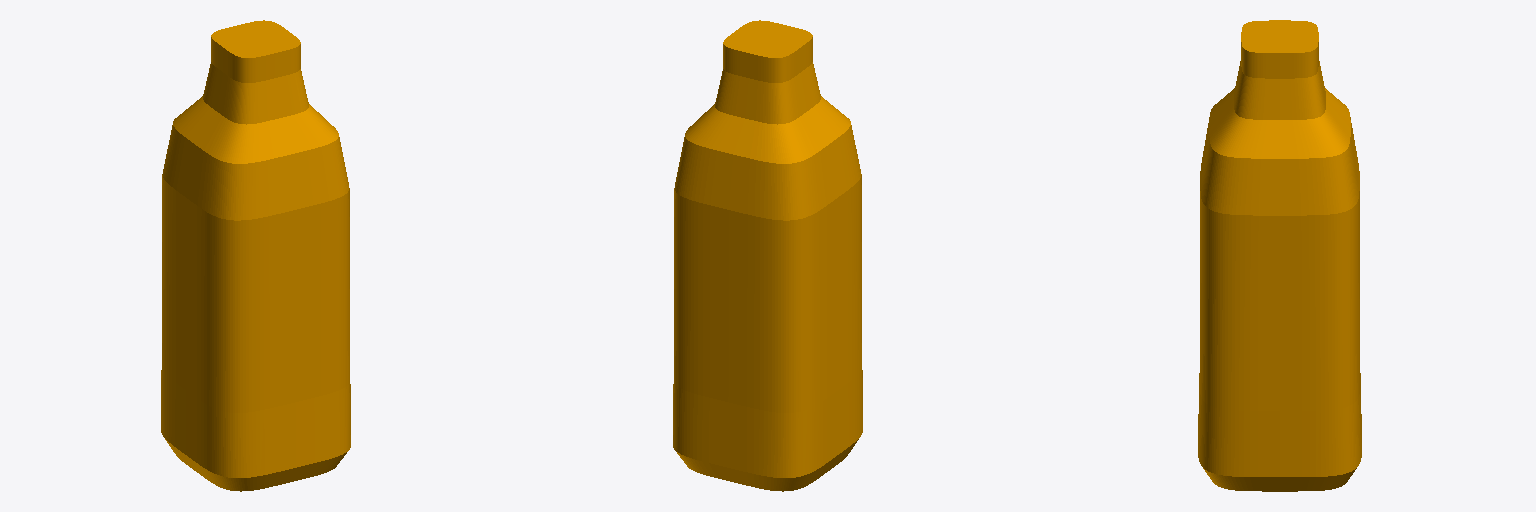
URDF robot description (drink_yykx):
<?xml version="1.0"?>
<robot name="drink_yykx">
  <link name="base_link">
    <inertial>
      <origin xyz="0 0 0" rpy="0 0 0"/>
      <mass value="0.353000"/>
      <inertia ixx="0.00132081" ixy="0.0" ixz="0.0"
               iyy="0.00132081" iyz="0.0"
               izz="0.00028828"/>
    </inertial>
    <visual>
      <origin xyz="0 0 0" rpy="0 0 0"/>
      <geometry><mesh filename="../mesh/visual_mesh.obj" scale="1 1 1"/></geometry>
    </visual>
    <collision>
      <origin xyz="0 0 0" rpy="0 0 0"/>
      <geometry><mesh filename="../mesh/collision_mesh.obj" scale="1 1 1"/></geometry>
    </collision>
  </link>
</robot>

--- Render facts (derived) ---
The picture shows the robot from 3 angles, left to right: view 1: azimuth 30°, elevation 25°; view 2: azimuth 150°, elevation 25°; view 3: azimuth 270°, elevation 25°; orthographic projection.
Robot: drink_yykx — 1 links, 0 joints (none); root link base_link; default pose: all joints at 0.
Links seen in each view (by area): view 1: base_link; view 2: base_link; view 3: base_link.
Link boxes in pixels (x1,y1,x2,y2): base_link: (161, 20, 350, 491); base_link: (673, 20, 862, 491); base_link: (1198, 20, 1361, 491).
Size in the robot's own frame: 0.07 by 0.07 by 0.2 metres.
1 mesh visuals loaded from 1 distinct referenced files (1 OBJ).
